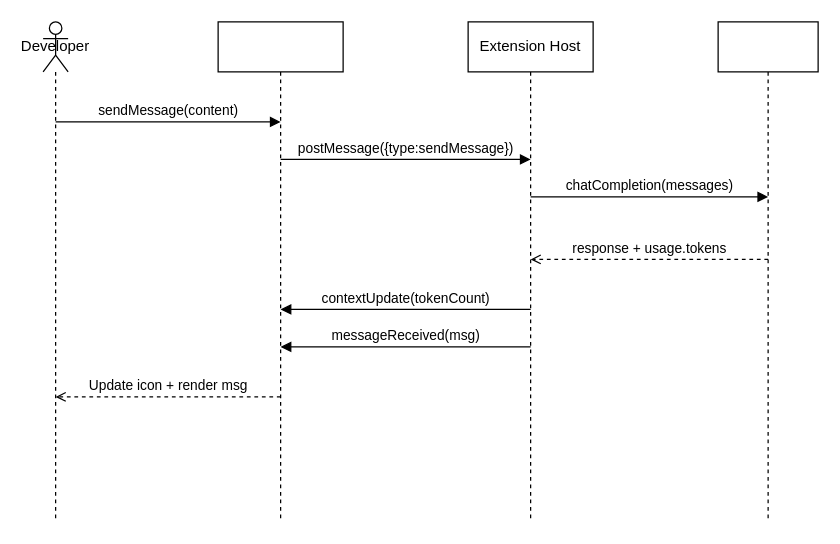
This 840x544 diagram has some shape labels left out. The shapes that lost their labels are listed below. From the top down, each one's box as (x1, y1, x2, y2) in pixels, then its label:
(217, 21, 343, 522): Webview
(717, 21, 818, 522): LLM
